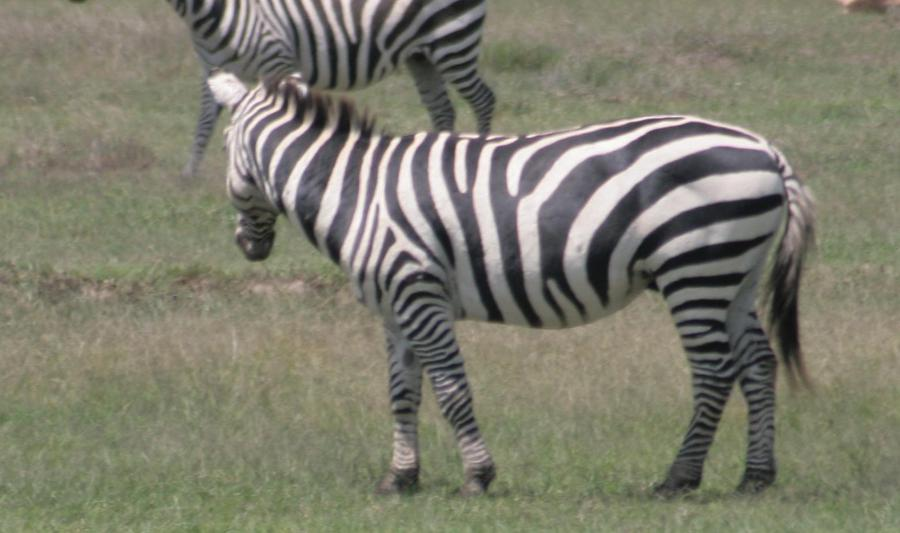zebra_plains: (302, 85, 804, 351)
